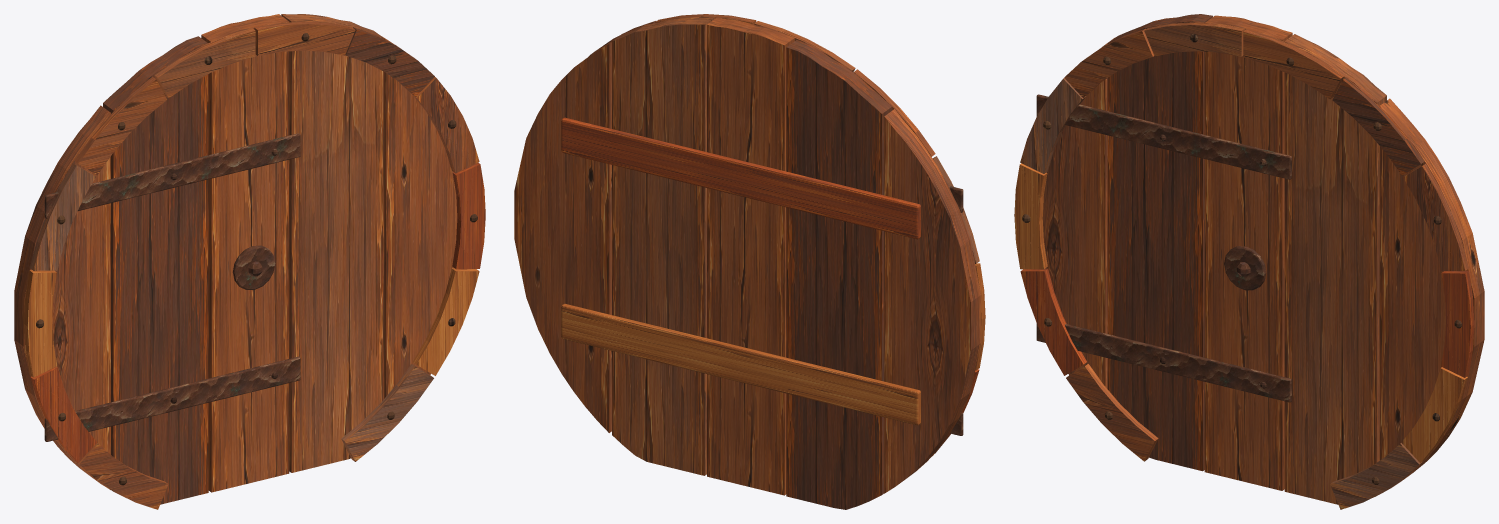
Rendered from door__plank_root.glb.
The picture shows the model from 3 angles, left to right: view 1: azimuth 30°, elevation 25°; view 2: azimuth 150°, elevation 25°; view 3: azimuth 330°, elevation 25°; orthographic projection.
Parts seen in each view (by area): view 1: model; view 2: model; view 3: model.
Part boxes in pixels (<box>): model: <box>14,14,485,509</box>; model: <box>514,14,985,509</box>; model: <box>1014,14,1484,509</box>.
Size of the model in its own units: 1.54 by 1.47 by 0.1138.
Materials: 11 (11 with a texture image).
